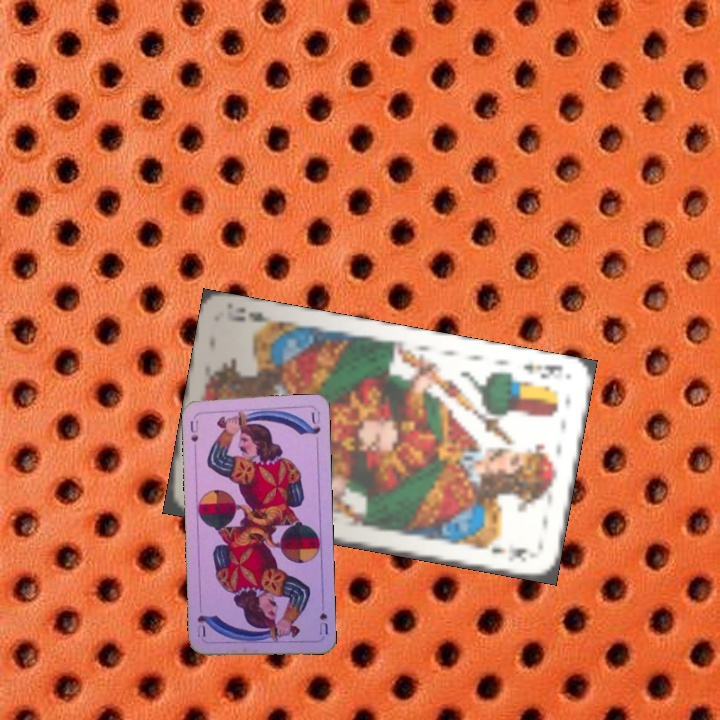EK: (519, 360, 566, 381)
SU: (186, 412, 201, 444), (315, 609, 330, 637)
